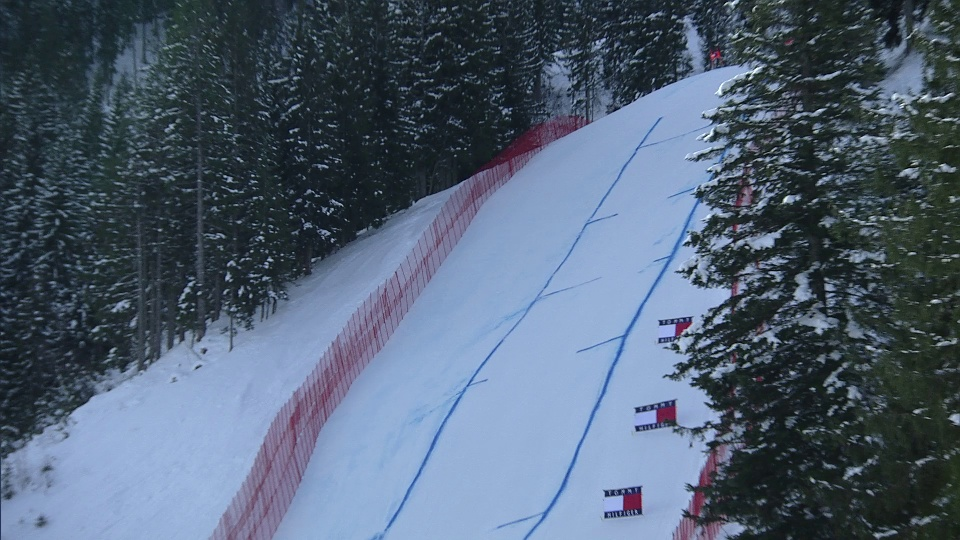tommyhilfiger: (635, 400, 680, 432), (604, 490, 645, 519), (657, 318, 696, 344)
